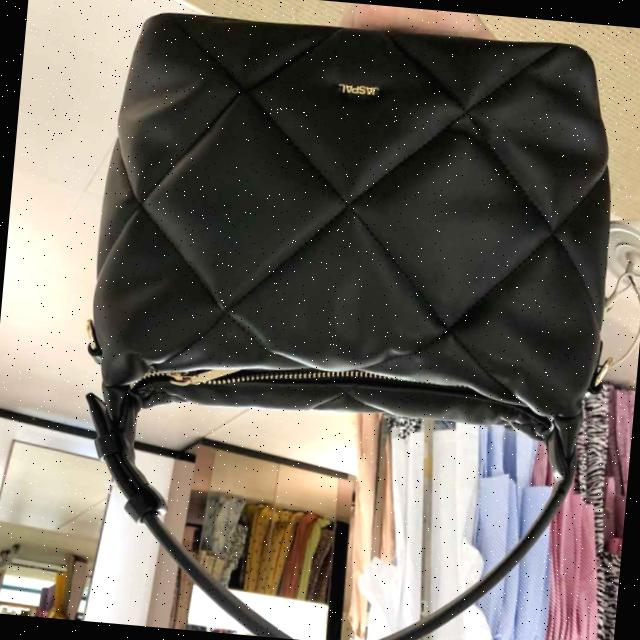Handbag: (53, 0, 640, 548)
